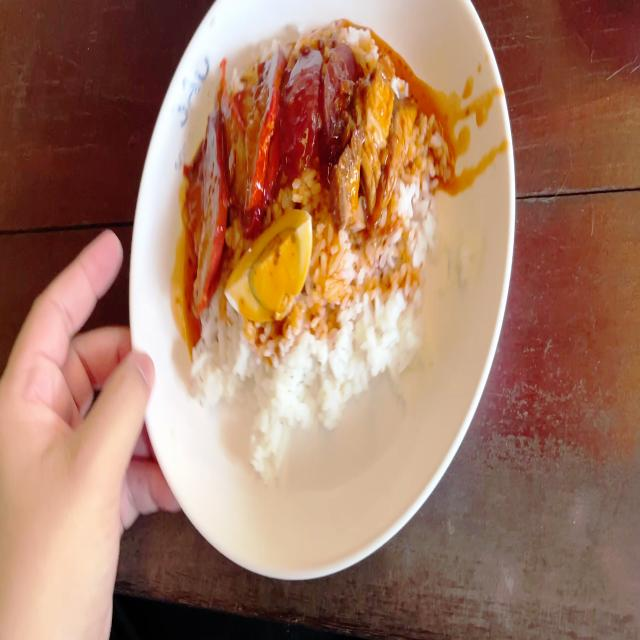boiled_egg: (225, 207, 310, 317)
chainese_sausage: (284, 38, 355, 164)
crispy_pork: (341, 81, 414, 215)
red_pork: (191, 47, 284, 277)
red_pork_and_crispy_pork: (188, 32, 422, 409)
rice: (312, 222, 430, 398), (188, 308, 318, 460)
